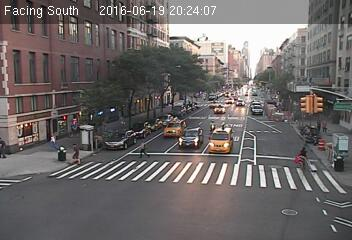neg: (176, 72, 198, 100), (240, 75, 260, 102), (142, 76, 161, 101), (265, 68, 282, 92), (305, 44, 322, 67), (216, 80, 231, 100), (117, 103, 130, 121)
pos: (65, 142, 82, 165), (134, 137, 149, 158), (207, 117, 221, 135), (44, 132, 57, 149), (319, 117, 332, 134)
